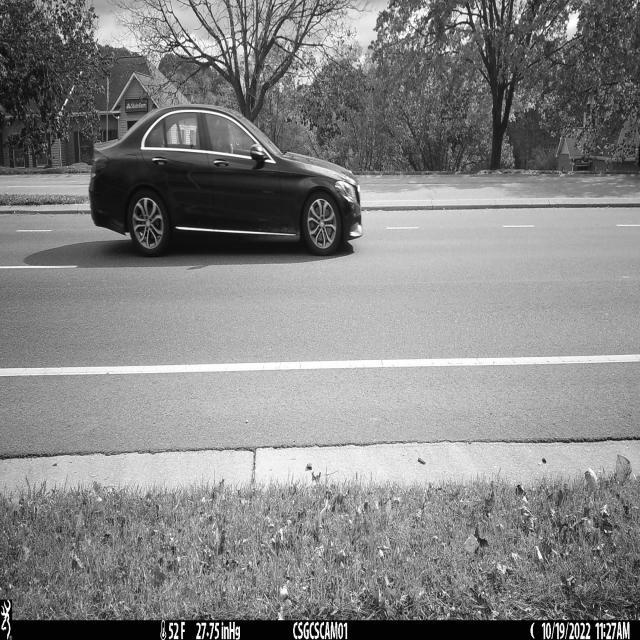Sedan: (88, 105, 363, 257)
